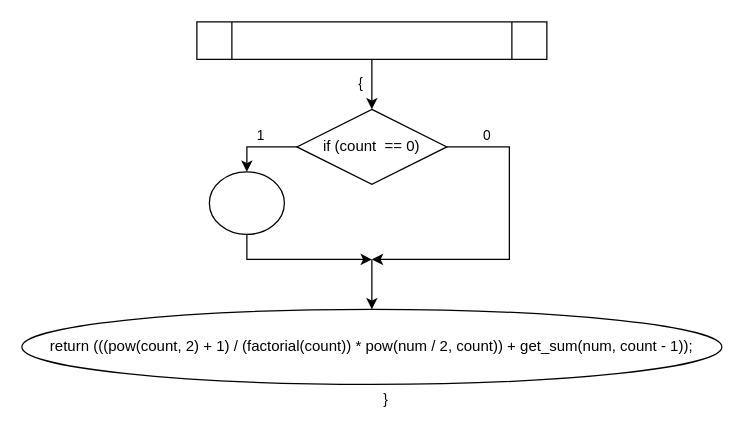
The diagram is 744 pixels wide and 429 high, and some of its shapes have lost their labels. The centre of each missing label's shape, as x and y in pixels:
"double get_sum(double num, int count)" belongs at pixel 371 40.
"return 1;" belongs at pixel 246 202.
